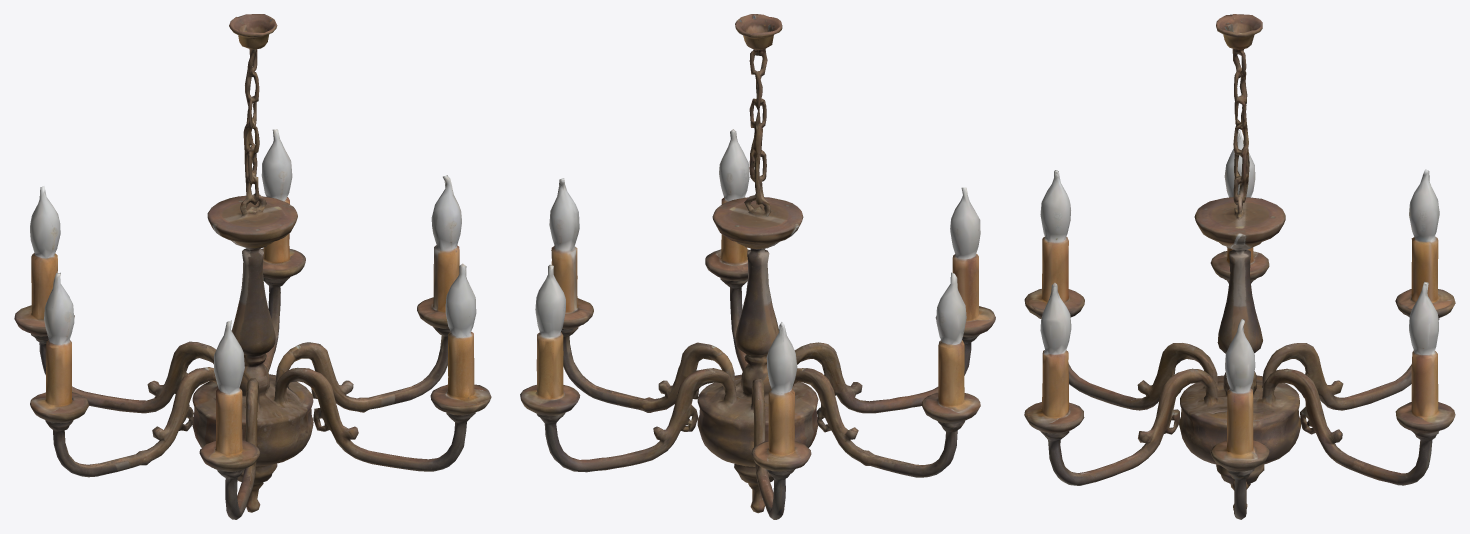
The model's file is Meshy_AI_Rustic_Elegance_0121060455_texture.glb.
3 renders of one model, left to right at view 1: azimuth 30°, elevation 25°; view 2: azimuth 150°, elevation 25°; view 3: azimuth 270°, elevation 25°, orthographic.
Size of the model in its own units: 1.89 by 2.02 by 1.61.
Materials: 1 (1 with a texture image).
